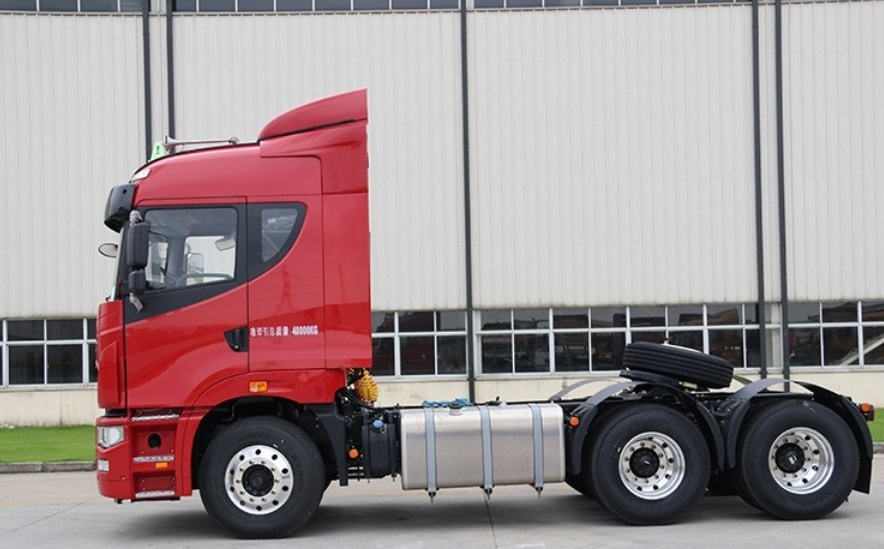heavy truck: (87, 86, 866, 538)
